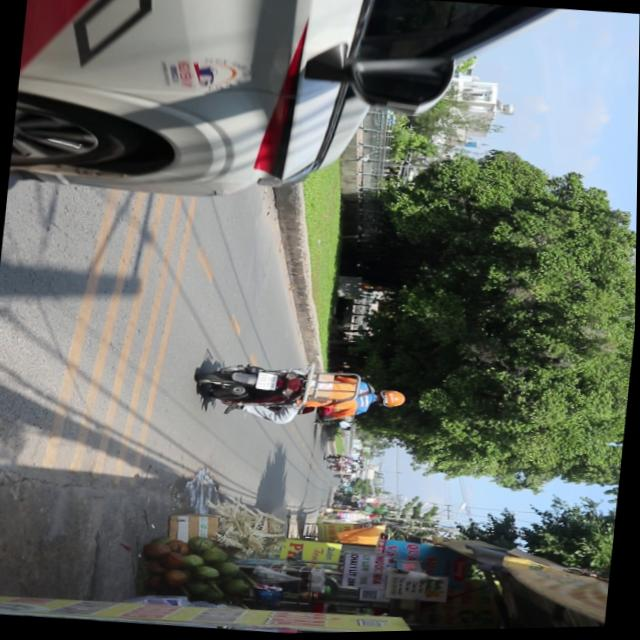helmet: (377, 387, 409, 409)
licenseplate: (196, 351, 412, 434)
nohelmet: (257, 372, 279, 390)
